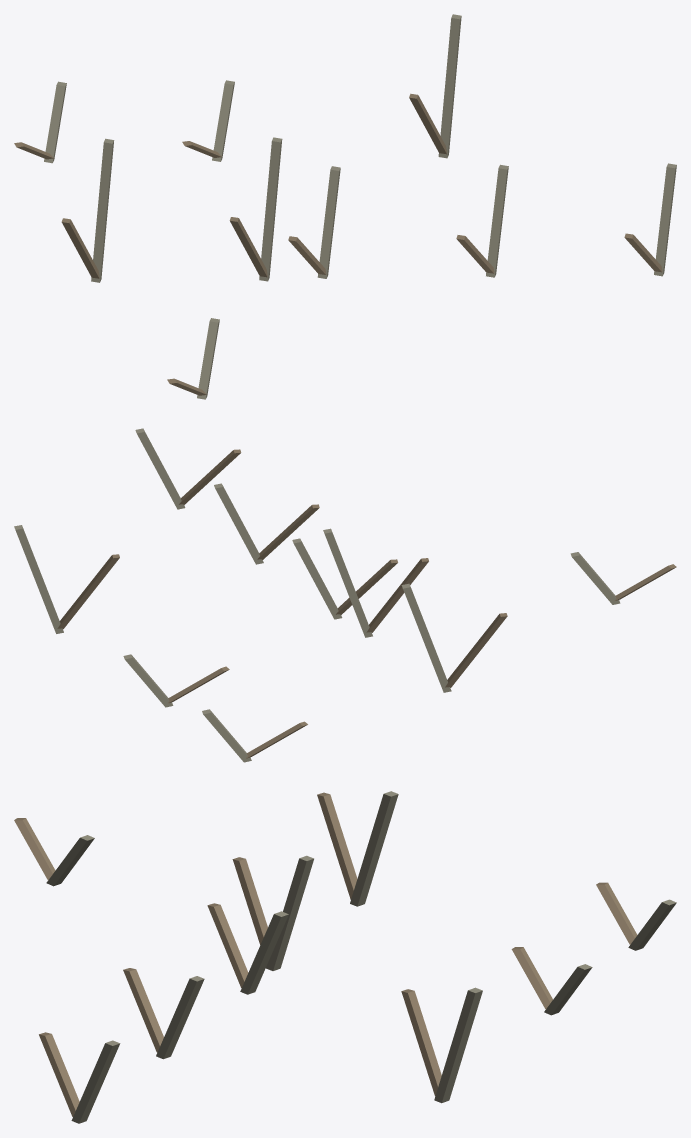
The model's file is dry_grass.glb.
The picture shows the model from 3 angles, top to bottom: view 1: azimuth 30°, elevation 25°; view 2: azimuth 150°, elevation 25°; view 3: azimuth 270°, elevation 25°; orthographic projection. The views are drawn at different scales.
Parts seen in each view (by area): view 1: dry_grass; view 2: dry_grass; view 3: dry_grass.
Part boxes in pixels (<box>): dry_grass: <box>14,14,676,399</box>; dry_grass: <box>14,428,676,762</box>; dry_grass: <box>14,791,676,1123</box>.
Size of the model in its own units: 1.92 by 0.4 by 1.92.
